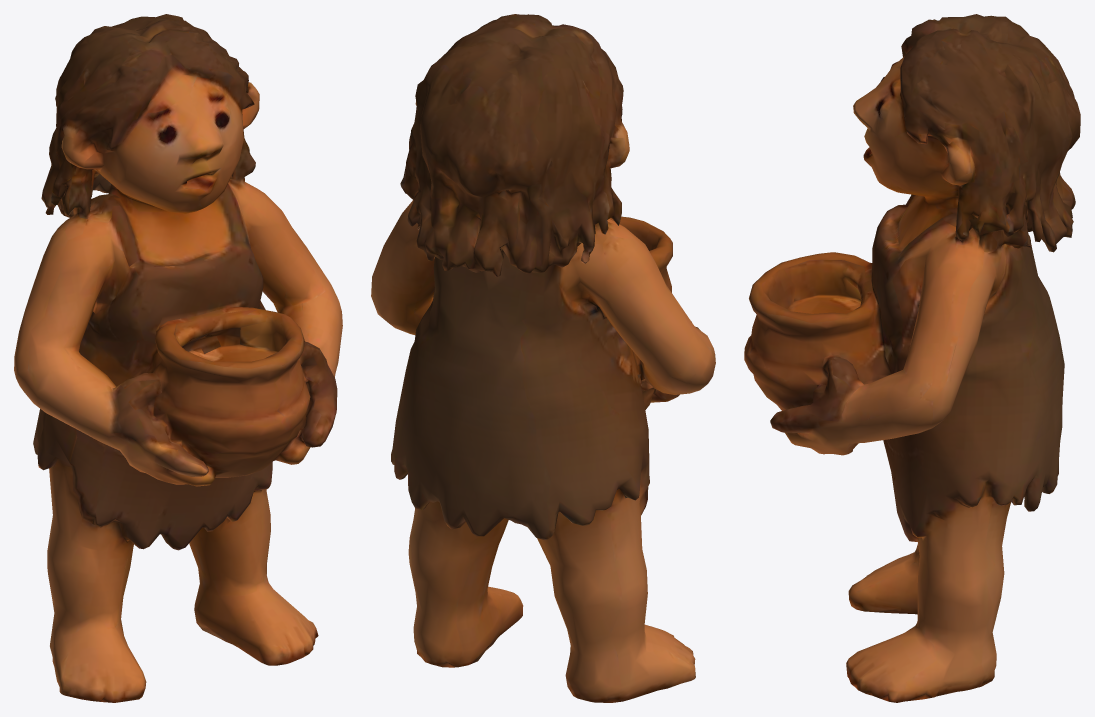
The model's file is char_coil_potter.glb.
3 renders of one model, left to right at view 1: azimuth 30°, elevation 25°; view 2: azimuth 150°, elevation 25°; view 3: azimuth 270°, elevation 25°, orthographic. The views are drawn at different scales.
Parts seen in each view (by area): view 1: geometry_0; view 2: geometry_0; view 3: geometry_0.
Part boxes in pixels (<box>): geometry_0: <box>14,14,342,702</box>; geometry_0: <box>371,14,715,702</box>; geometry_0: <box>744,14,1080,702</box>.
Bounding box in the file's own units: 1.06 × 1.97 × 0.9754.
Materials: 1 (1 with a texture image).
